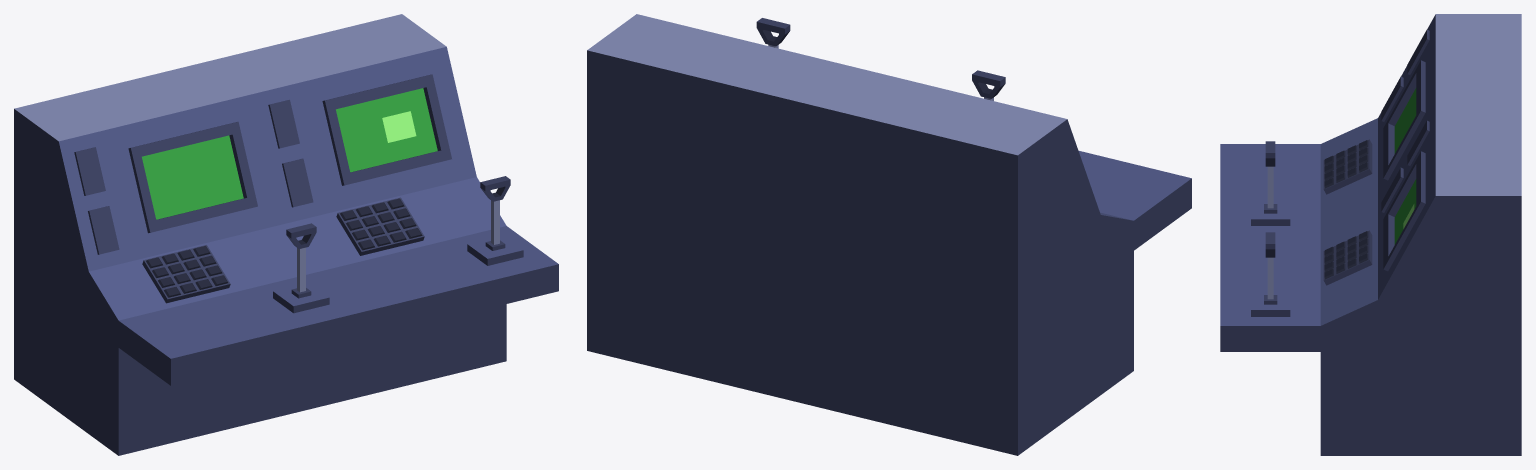
File: ControlComp.fbx
3 views of the same model, side by side, from view 1: azimuth 30°, elevation 25°; view 2: azimuth 150°, elevation 25°; view 3: azimuth 270°, elevation 25° (orthographic). The views are drawn at different scales.
Parts seen in each view (by area): view 1: Cube; view 2: Cube; view 3: Cube.
Boxes of the visible parts, <box> form: Cube: <box>14,14,558,455</box>; Cube: <box>587,14,1191,455</box>; Cube: <box>1220,14,1521,455</box>.
Size of the model in its own units: 300 by 200 by 210.
